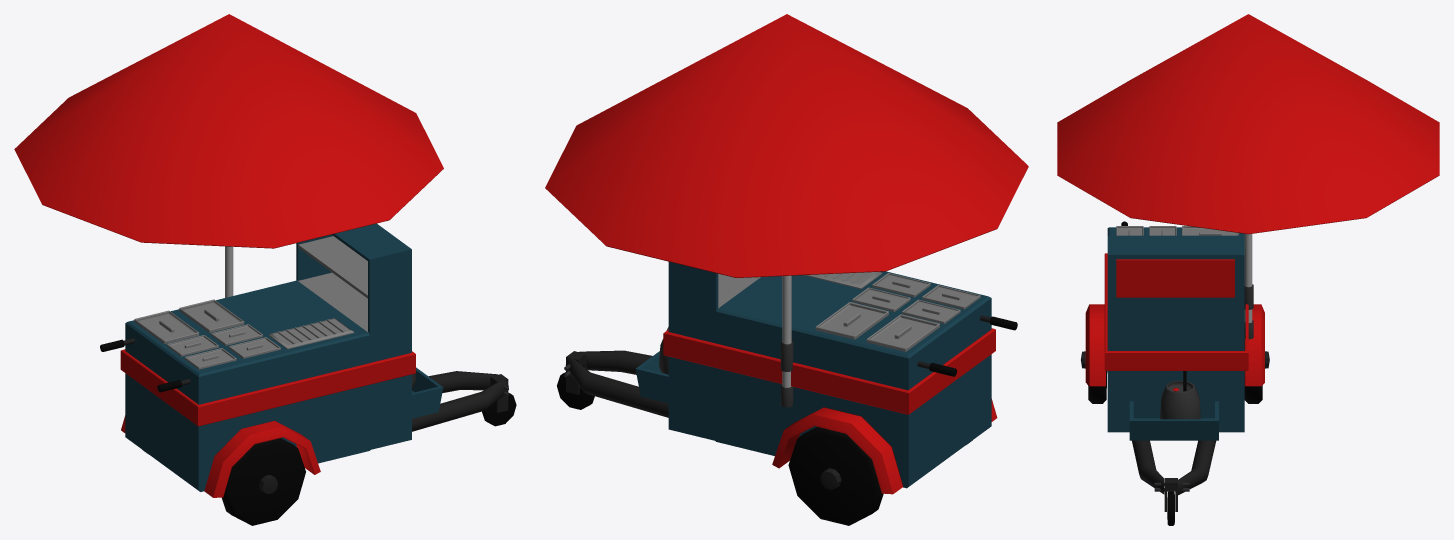
The model's file is Hotdog Stand.fbx.
The picture shows the model from 3 angles, left to right: view 1: azimuth 30°, elevation 25°; view 2: azimuth 150°, elevation 25°; view 3: azimuth 270°, elevation 25°; orthographic projection. The views are drawn at different scales.
Visible parts, largest first — view 1: pasted__polySurface391; view 2: pasted__polySurface391; view 3: pasted__polySurface391.
Boxes of the visible parts, box(x1,y1,x2,y2) form: pasted__polySurface391: box(14, 14, 516, 525); pasted__polySurface391: box(545, 14, 1028, 525); pasted__polySurface391: box(1057, 14, 1439, 525).
Bounding box in the file's own units: 6.44 × 6.21 × 5.3.
